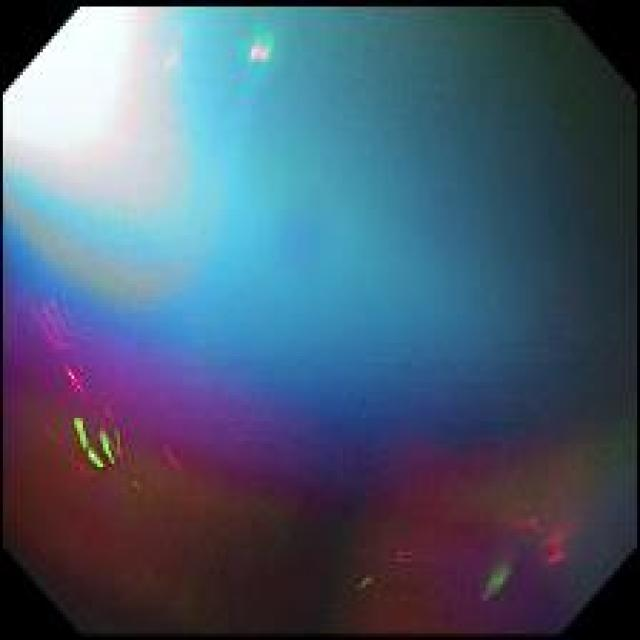color misalignment: (2, 6, 639, 638)
saturation: (4, 9, 152, 164), (251, 43, 271, 62)
